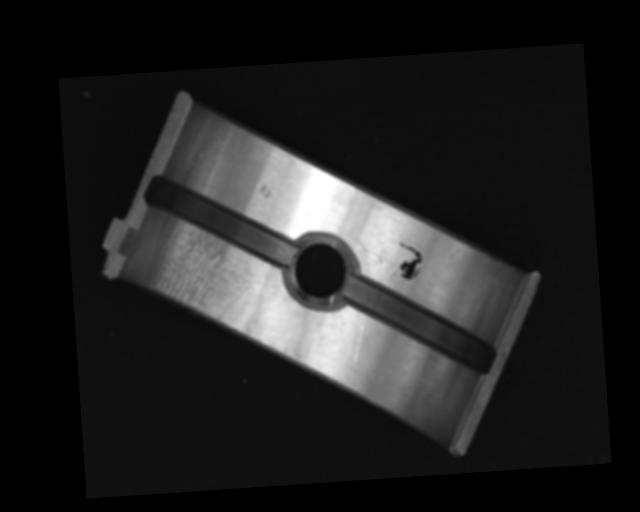blot: (396, 239, 425, 283)
bruise: (255, 180, 274, 199)
gap: (344, 269, 501, 382), (144, 167, 294, 272)
hole: (283, 230, 361, 312)
nick: (351, 325, 364, 366)
scratch: (146, 220, 260, 331)
